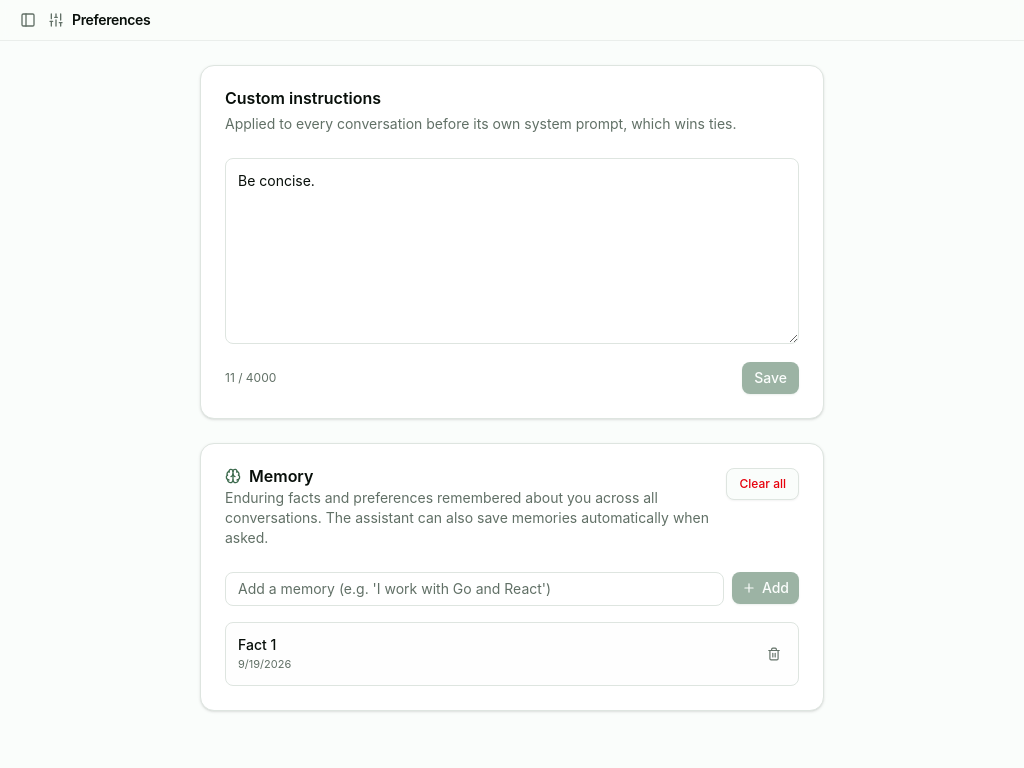
Test: PreferencesPage › clears all memories when confirmed
expect the text "Fact 1" is shown: met, box x1=238 y1=636 x2=276 y2=653
Click the button "Clear all" at (763, 484), box x1=726 y1=468 x2=799 y2=500
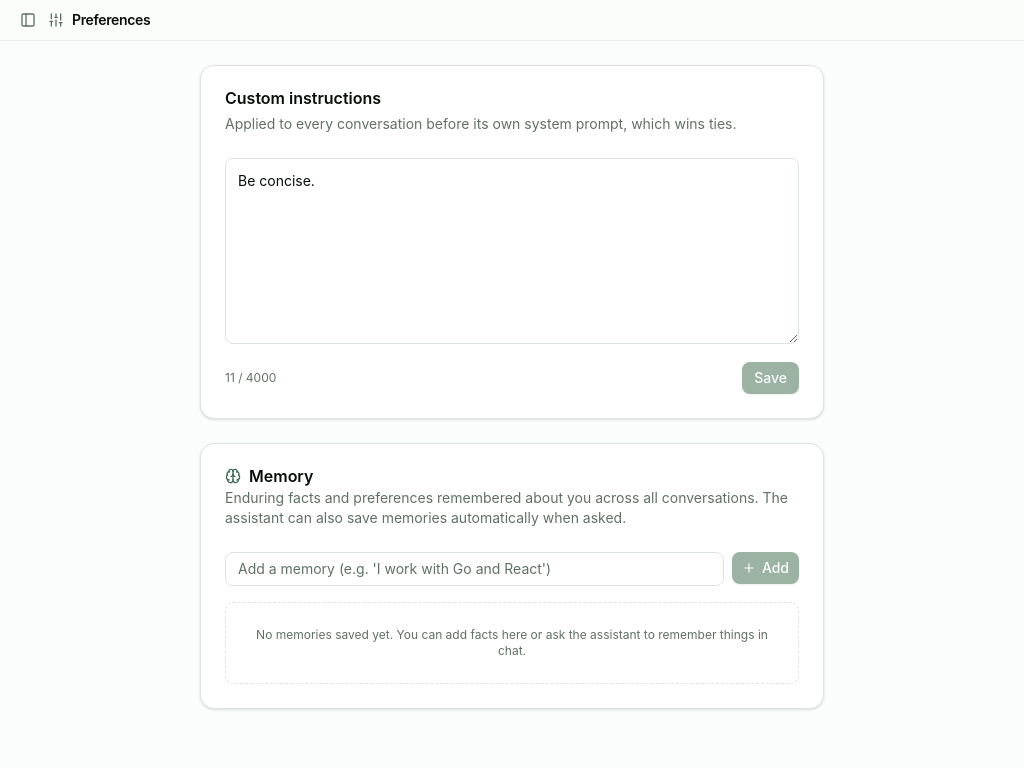
expect the text "Fact 1" is gone: met
expect the text "No memories saved yet" is shown: met, box x1=256 y1=627 x2=768 y2=658
